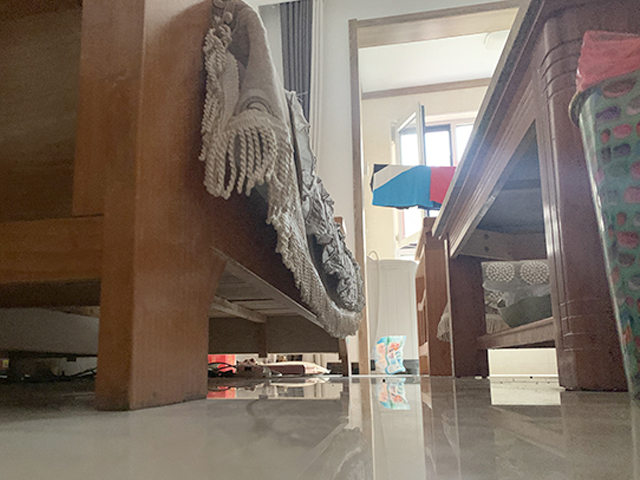sofa: (1, 1, 364, 413)
table: (431, 1, 640, 391)
trashcan: (567, 70, 640, 399)
